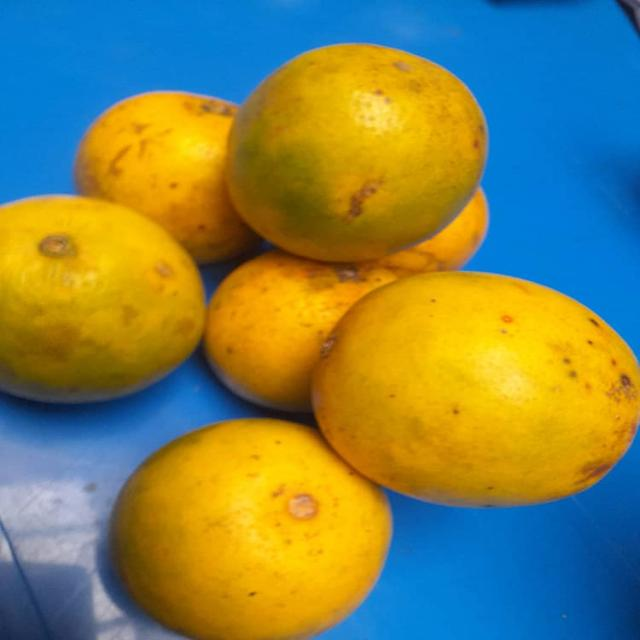Ripe orange: (328, 269, 636, 509), (106, 414, 410, 640), (226, 39, 533, 258), (4, 190, 201, 410), (60, 70, 258, 261)
